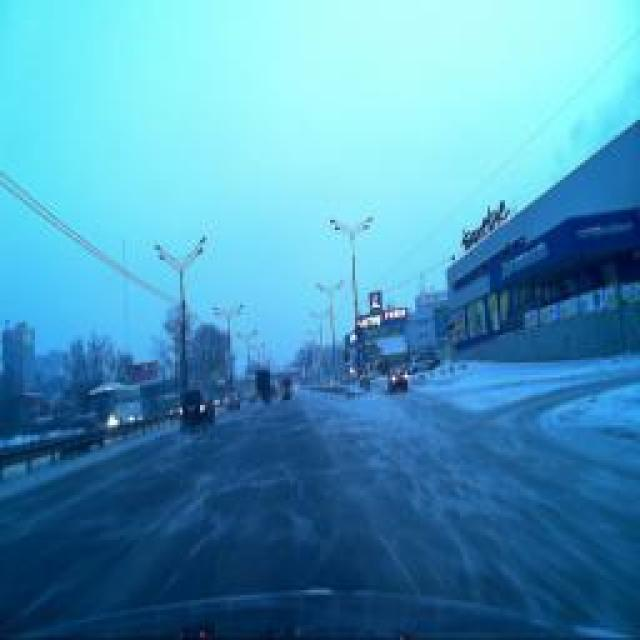sign: (445, 318, 455, 338), (355, 322, 363, 340)
